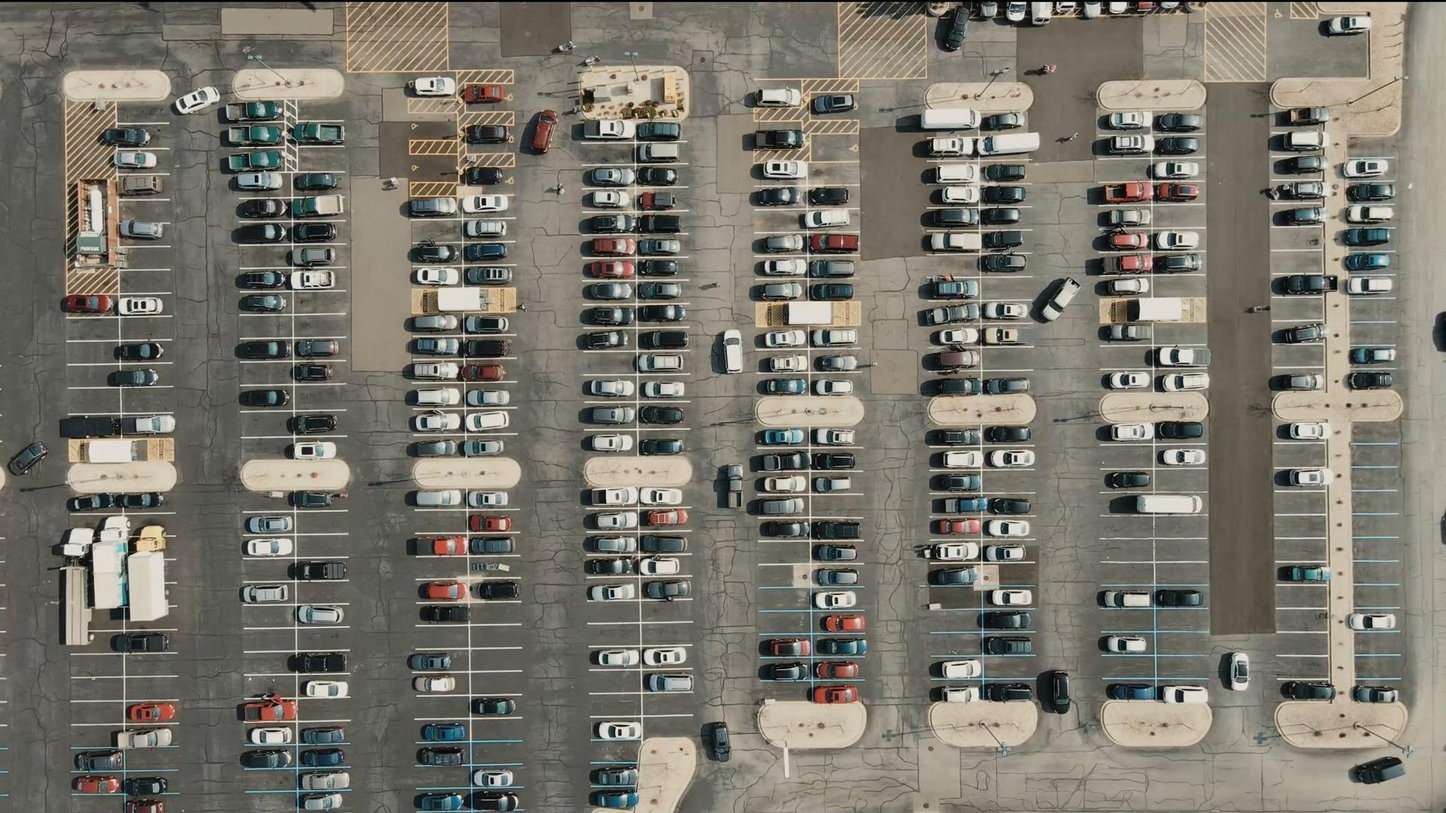occupied: (586, 484, 692, 583), (1036, 276, 1081, 322), (1354, 755, 1406, 785), (1038, 670, 1071, 715), (979, 133, 1038, 156), (174, 86, 220, 115), (8, 442, 48, 475), (944, 6, 972, 52), (244, 698, 296, 722), (531, 110, 560, 153), (1136, 495, 1201, 514), (585, 369, 634, 394), (60, 417, 115, 439), (293, 122, 345, 145), (112, 633, 170, 653), (228, 125, 283, 146), (227, 101, 282, 122), (921, 108, 976, 129), (636, 374, 686, 397), (703, 721, 731, 762), (291, 652, 345, 673), (1222, 651, 1251, 690), (1280, 681, 1335, 701), (118, 729, 172, 749), (762, 349, 805, 374), (226, 152, 279, 172), (292, 196, 342, 217), (1103, 182, 1153, 203), (293, 562, 345, 582), (1283, 275, 1335, 295), (62, 294, 114, 314), (721, 329, 744, 374), (583, 120, 632, 141), (128, 702, 177, 723), (241, 749, 292, 769), (119, 173, 163, 196), (984, 683, 1034, 703), (474, 791, 519, 813), (1281, 130, 1326, 152), (237, 341, 289, 360), (75, 751, 122, 772), (122, 776, 169, 797), (1324, 15, 1371, 36), (757, 129, 806, 149), (60, 528, 95, 556), (132, 525, 167, 553), (585, 213, 636, 232), (302, 770, 350, 790), (1160, 347, 1210, 366), (930, 232, 980, 251), (412, 75, 455, 97), (813, 684, 858, 705), (461, 194, 508, 214), (235, 171, 284, 190), (409, 197, 458, 216), (411, 244, 460, 263), (1279, 325, 1328, 344), (756, 86, 800, 107), (240, 199, 286, 219), (1344, 158, 1390, 178), (238, 271, 289, 289), (1107, 683, 1158, 701), (1161, 373, 1209, 392), (294, 172, 342, 191), (761, 662, 809, 681), (116, 342, 164, 361), (1345, 252, 1393, 271), (418, 747, 466, 766), (417, 792, 465, 811), (1348, 182, 1396, 201), (73, 775, 121, 794), (103, 127, 151, 146), (290, 270, 335, 290), (131, 414, 176, 434), (937, 659, 982, 679), (293, 222, 338, 242), (595, 721, 640, 741), (239, 389, 289, 407), (422, 723, 467, 743), (1275, 182, 1325, 200), (241, 584, 288, 603), (1346, 276, 1393, 295), (592, 768, 639, 787), (290, 414, 337, 433), (1162, 685, 1209, 704), (1349, 612, 1396, 631), (592, 791, 639, 810), (111, 369, 160, 387), (1345, 227, 1394, 245), (120, 219, 164, 239), (245, 538, 291, 557), (933, 567, 979, 586), (648, 673, 694, 692), (1105, 111, 1151, 130), (1286, 107, 1332, 126), (460, 85, 506, 104), (296, 606, 344, 624), (802, 210, 850, 228), (1103, 208, 1151, 226), (1284, 469, 1332, 487), (1101, 590, 1149, 608), (420, 605, 468, 623), (466, 412, 509, 432), (1106, 134, 1149, 154), (926, 137, 969, 157), (812, 94, 855, 114), (292, 441, 337, 460), (464, 219, 509, 238), (1103, 635, 1148, 654), (1157, 231, 1202, 250), (1157, 254, 1202, 273), (301, 727, 346, 746), (302, 748, 347, 767), (815, 661, 860, 680), (937, 685, 982, 704), (637, 122, 682, 141), (291, 491, 341, 508), (1104, 371, 1151, 389), (241, 294, 288, 312), (1152, 161, 1199, 179), (1157, 113, 1204, 131), (637, 143, 681, 162), (767, 639, 811, 658), (473, 697, 517, 716), (1107, 231, 1151, 250), (415, 490, 464, 507), (1281, 565, 1330, 582), (413, 414, 459, 432), (1161, 448, 1207, 466), (1351, 346, 1397, 364), (1156, 137, 1202, 155), (1282, 207, 1328, 225), (1349, 372, 1395, 390), (1289, 422, 1332, 441), (296, 339, 339, 358), (644, 647, 687, 666), (120, 297, 163, 316), (1284, 154, 1327, 173), (412, 315, 460, 332), (1274, 374, 1322, 391), (97, 516, 131, 540), (414, 267, 459, 285), (931, 543, 976, 561), (1108, 424, 1153, 442), (595, 649, 640, 667), (292, 247, 337, 265), (249, 727, 294, 745), (246, 516, 291, 534), (1354, 685, 1399, 703), (761, 375, 808, 392), (1103, 325, 1150, 342), (1156, 590, 1203, 607), (478, 581, 520, 600), (984, 111, 1026, 130), (423, 581, 465, 600), (1112, 254, 1154, 273), (467, 389, 511, 407), (762, 160, 806, 178), (304, 680, 348, 698), (465, 243, 509, 261), (590, 167, 634, 185), (1156, 183, 1200, 201), (1349, 205, 1395, 222), (301, 793, 342, 812), (588, 190, 631, 208), (410, 653, 453, 671), (467, 125, 510, 143), (474, 769, 514, 788), (428, 537, 468, 556), (463, 439, 505, 457), (116, 151, 158, 169), (470, 515, 512, 533), (1106, 278, 1150, 295), (467, 490, 508, 508), (293, 363, 334, 381), (119, 493, 165, 509), (727, 462, 743, 508), (990, 589, 1033, 606), (466, 167, 506, 185), (470, 538, 514, 554), (1108, 472, 1152, 488), (414, 675, 455, 692), (1031, 1, 1054, 25), (126, 799, 165, 813), (926, 1, 956, 17), (1006, 1, 1027, 22), (1053, 0, 1077, 17), (978, 1, 998, 19), (1082, 1, 1103, 18), (1106, 0, 1129, 15), (1135, 0, 1157, 14), (1158, 0, 1180, 13)
